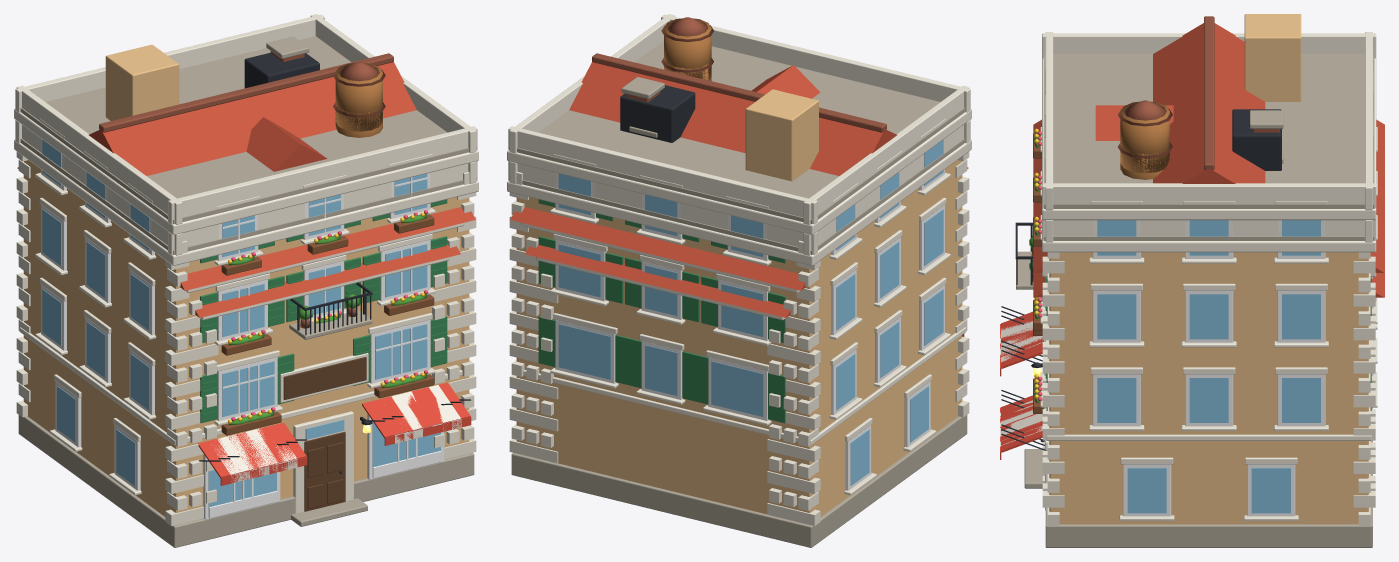
Rendered from city.glb.
The picture shows the model from 3 angles, left to right: view 1: azimuth 30°, elevation 25°; view 2: azimuth 150°, elevation 25°; view 3: azimuth 270°, elevation 25°; orthographic projection. The views are drawn at different scales.
Parts seen in each view (by area): view 1: house_f10x9_h105, house_g9x9, house_f10x9_h95, house_g8x9; view 2: house_f10x9_h105, house_g9x9, house_f10x9_h95, house_g8x9; view 3: house_f10x9_h105, house_g9x9, house_f10x9_h95, house_g8x9.
Part boxes in pixels (x1,y1,x2,y2): house_f10x9_h105: [14, 14, 478, 547]; house_g9x9: [17, 36, 475, 544]; house_f10x9_h95: [14, 88, 478, 515]; house_g8x9: [195, 244, 460, 535]; house_f10x9_h105: [507, 14, 971, 547]; house_g9x9: [510, 53, 968, 544]; house_f10x9_h95: [507, 58, 971, 516]; house_g8x9: [525, 126, 790, 537]; house_f10x9_h105: [1000, 14, 1377, 547]; house_g9x9: [1000, 16, 1384, 517]; house_f10x9_h95: [1042, 70, 1376, 524]; house_g8x9: [1000, 145, 1384, 483].
Size of the model in its own units: 10.5 by 12.8 by 10.84.
